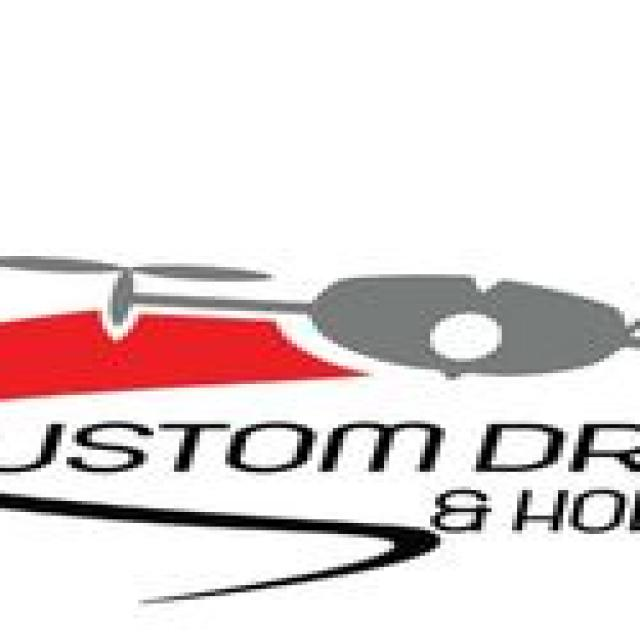drone: (0, 227, 640, 435)
